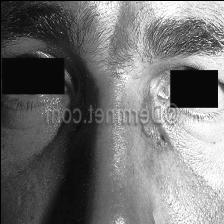Unclassified: (140, 116, 172, 148)
